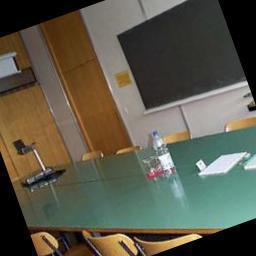Puerta: (60, 58, 125, 158)
